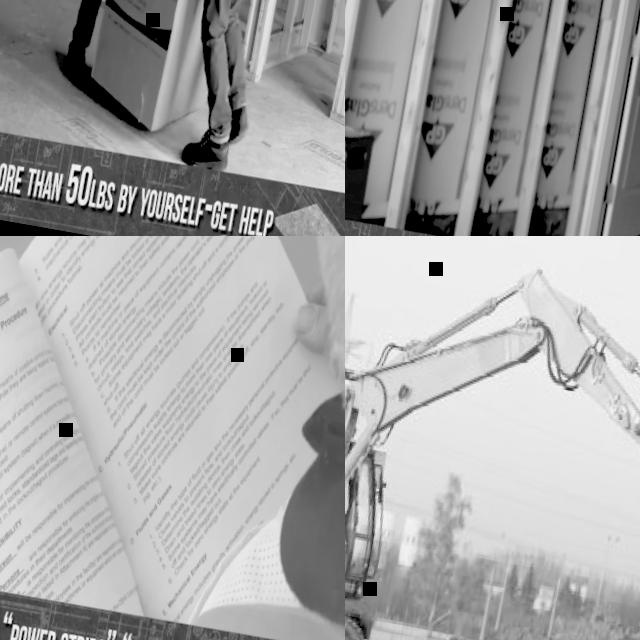NO-Mask: (261, 236, 345, 478)
Person: (189, 236, 345, 640), (157, 0, 327, 175), (60, 0, 213, 90)
Safety Vest: (191, 478, 345, 640)
machinery: (345, 236, 640, 640)
